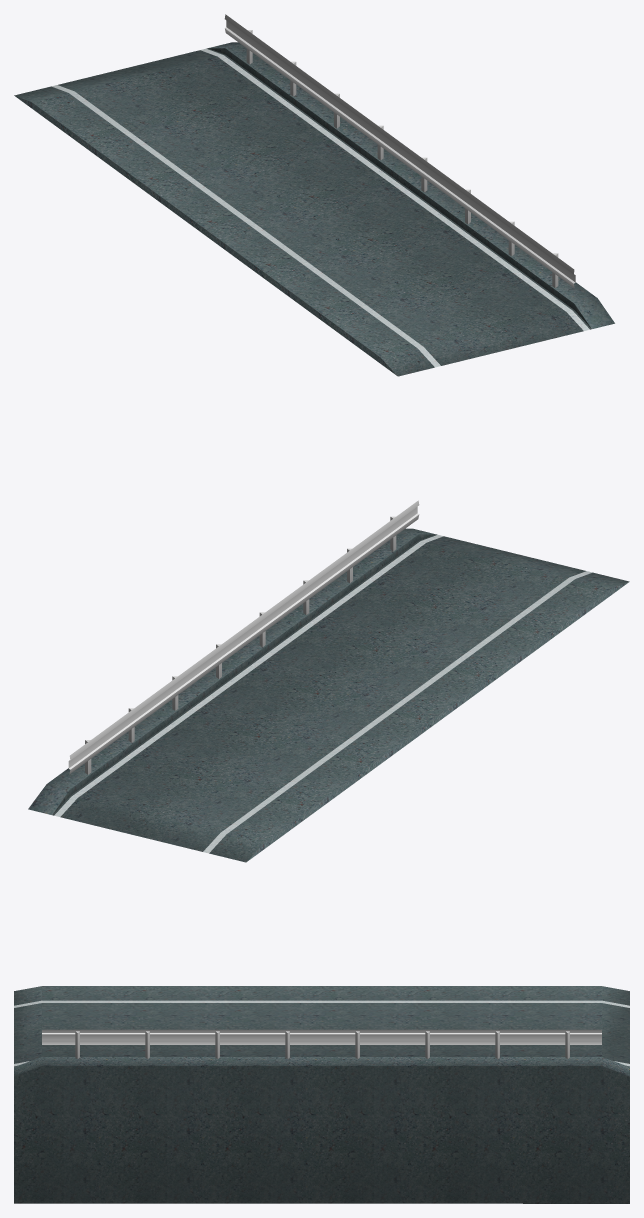
File: ROMEN_CAR_L00.glb
The picture shows the model from 3 angles, top to bottom: view 1: azimuth 30°, elevation 25°; view 2: azimuth 150°, elevation 25°; view 3: azimuth 270°, elevation 25°; orthographic projection. The views are drawn at different scales.
Parts seen in each view (by area): view 1: Model; view 2: Model; view 3: Model.
Boxes of the visible parts, x1,y1,x2,y2 form: Model: [14, 14, 614, 376]; Model: [28, 500, 629, 862]; Model: [14, 986, 629, 1203].
Bounding box in the file's own units: 38.41 × 31.4 × 110.
11 materials, 2 textured.
